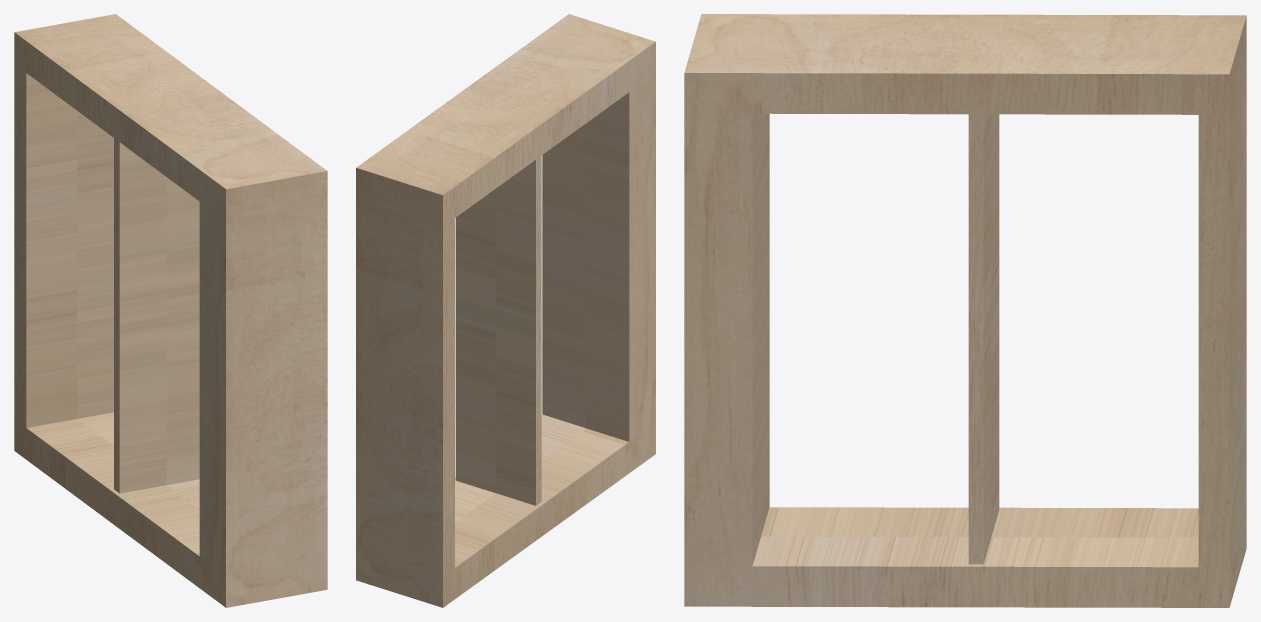
The model's file is alacenaFlotante.obj.
3 views of the same model, side by side, from view 1: azimuth 30°, elevation 25°; view 2: azimuth 150°, elevation 25°; view 3: azimuth 270°, elevation 25° (orthographic). The views are drawn at different scales.
Visible parts, largest first — view 1: Moda_Collection:G_Moda_CoffeeTable; view 2: Moda_Collection:G_Moda_CoffeeTable; view 3: Moda_Collection:G_Moda_CoffeeTable.
Part boxes in pixels (x1,y1,x2,y2): Moda_Collection:G_Moda_CoffeeTable: (14, 14, 327, 607); Moda_Collection:G_Moda_CoffeeTable: (356, 14, 655, 607); Moda_Collection:G_Moda_CoffeeTable: (684, 14, 1246, 607).
Bounding box in the file's own units: 0.5401 × 2.23 × 2.13.
1 material, 1 textured.
